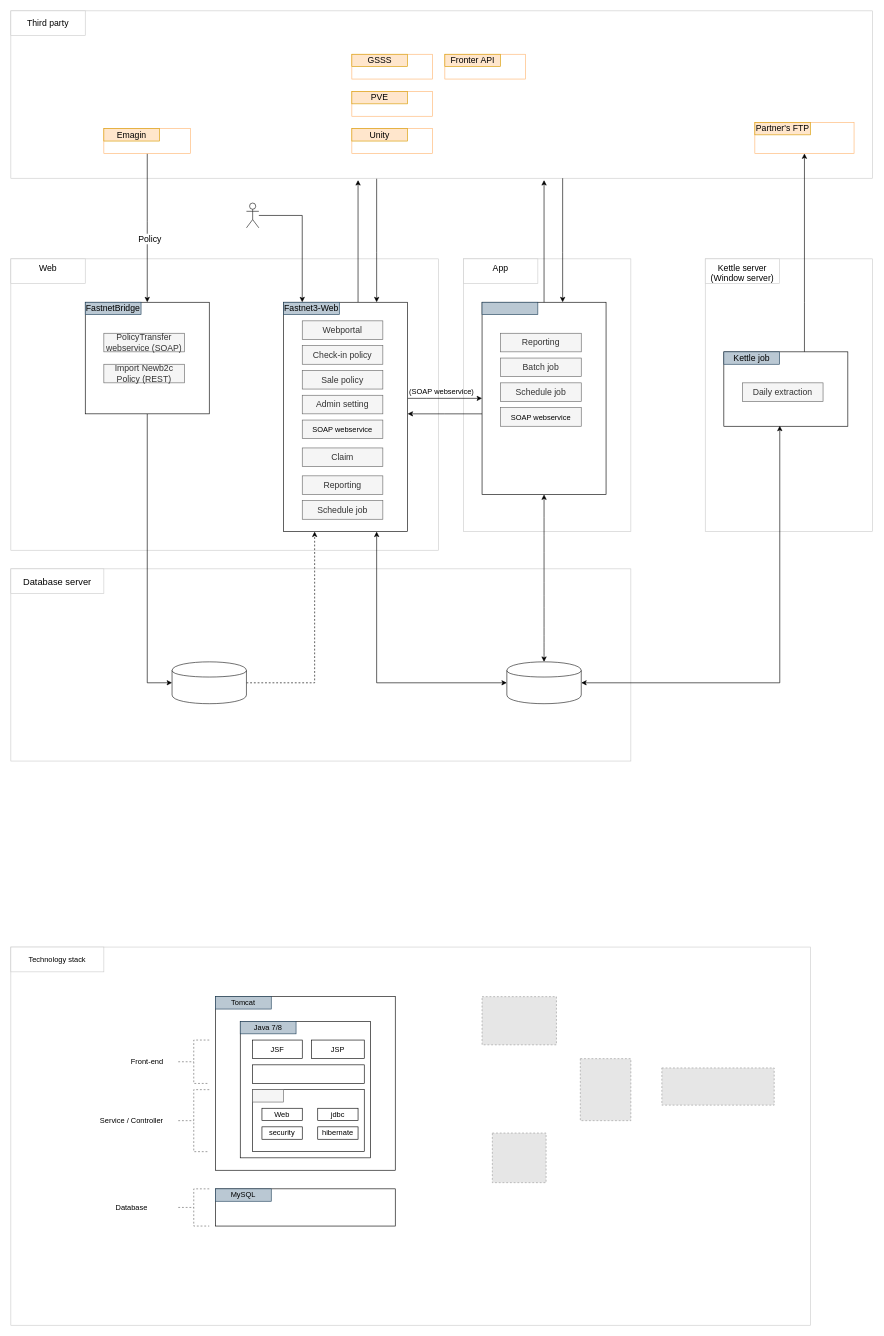
Some shapes in this 884 by 1336 pixel diagram are drawn without their labels. Grey dashed boxes stand in for pictures. Here are the shapes that lost their labels. From the top down, the centre of each, then its label:
At point (252, 215): "Admin/Sale user/Claim user".
At point (509, 308): "Fastnet3-App".
At point (208, 682): "db fastnetexternal".
At point (543, 682): "db fastnet".
At point (308, 1073): "Servlet".
At point (268, 1095): "sping".
